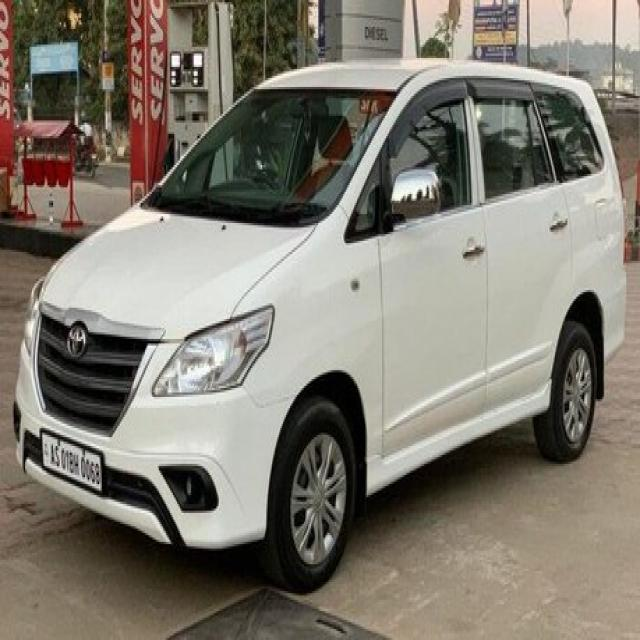light_vehicle: (13, 56, 628, 593)
